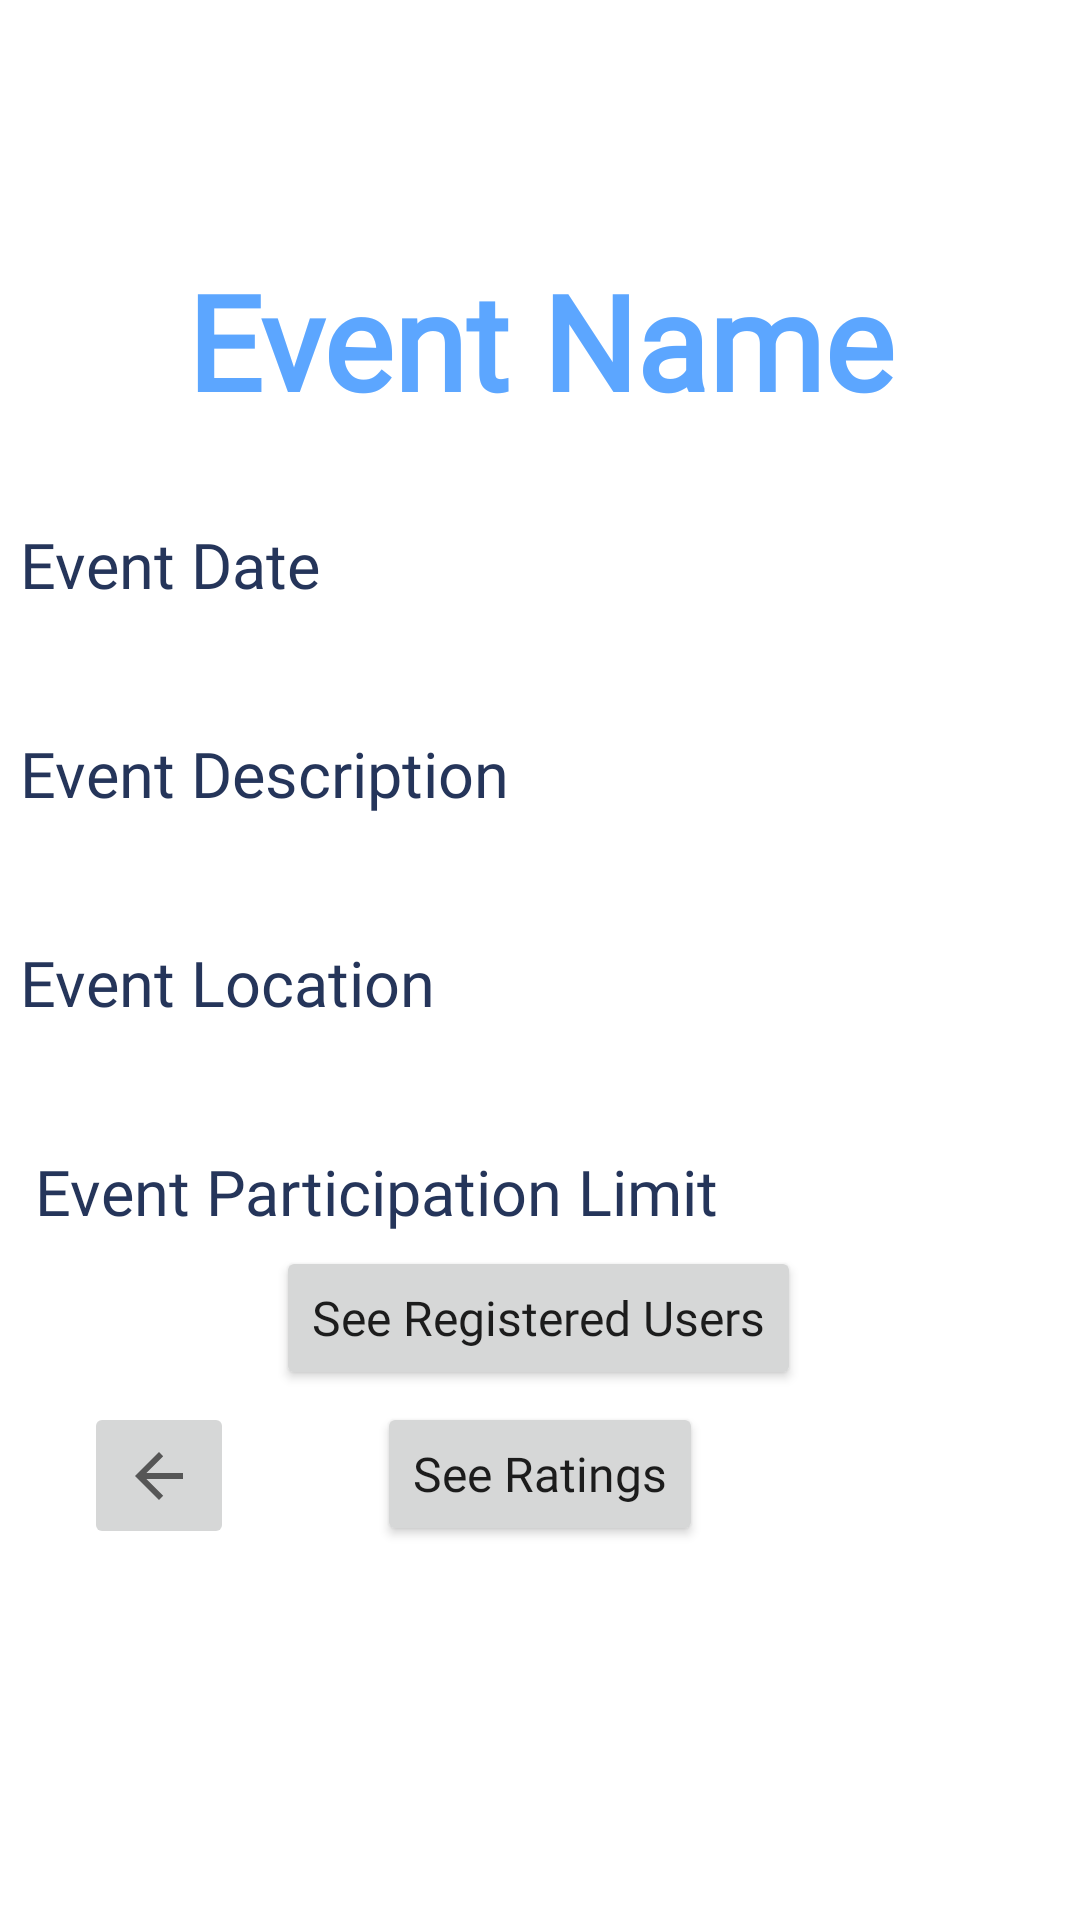

Icons on this 1080×1920 Android screen, each with its box as (x1, y1, x2, y2):
Go Back to Previous Page: (96, 1420, 222, 1531)
